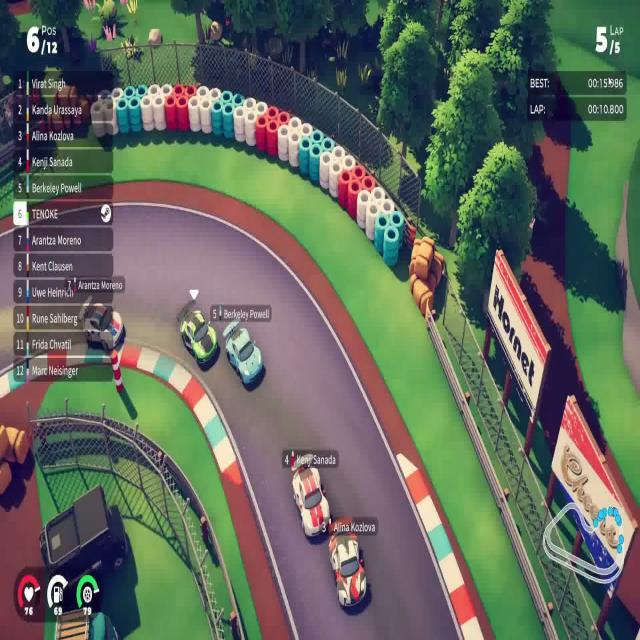car: (328, 518, 368, 609), (291, 462, 331, 540), (222, 319, 264, 386), (78, 296, 124, 353), (179, 307, 217, 369)
